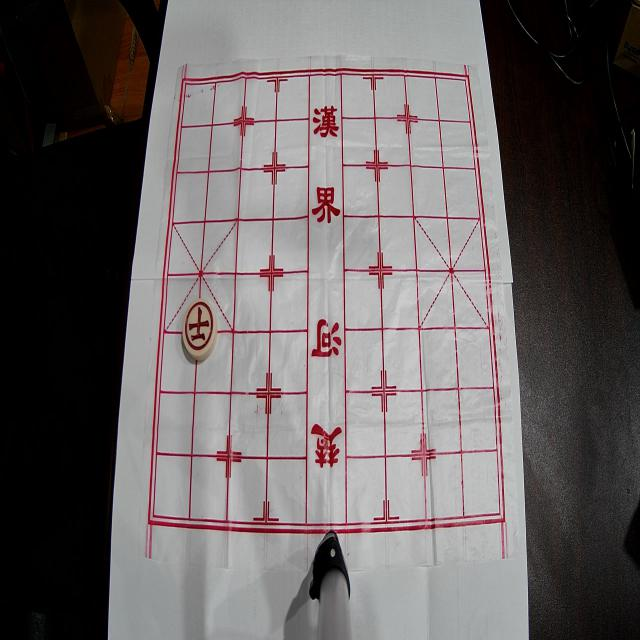red-guard: (182, 298, 218, 361)
